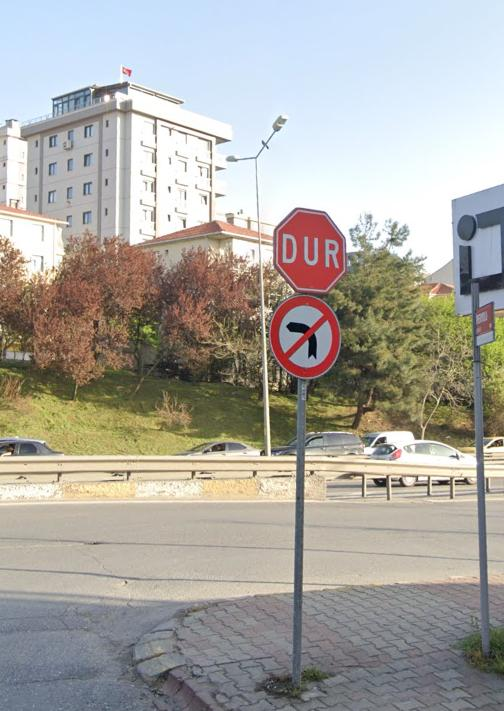leftturnsareforbidden: (271, 297, 341, 377)
stop: (275, 204, 347, 294)
